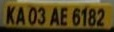character: (15, 6, 25, 25), (49, 6, 59, 25), (5, 5, 14, 25), (36, 6, 45, 25), (27, 6, 36, 24), (71, 7, 80, 25), (59, 6, 67, 25), (87, 7, 95, 26), (96, 8, 104, 26), (81, 7, 87, 26)
